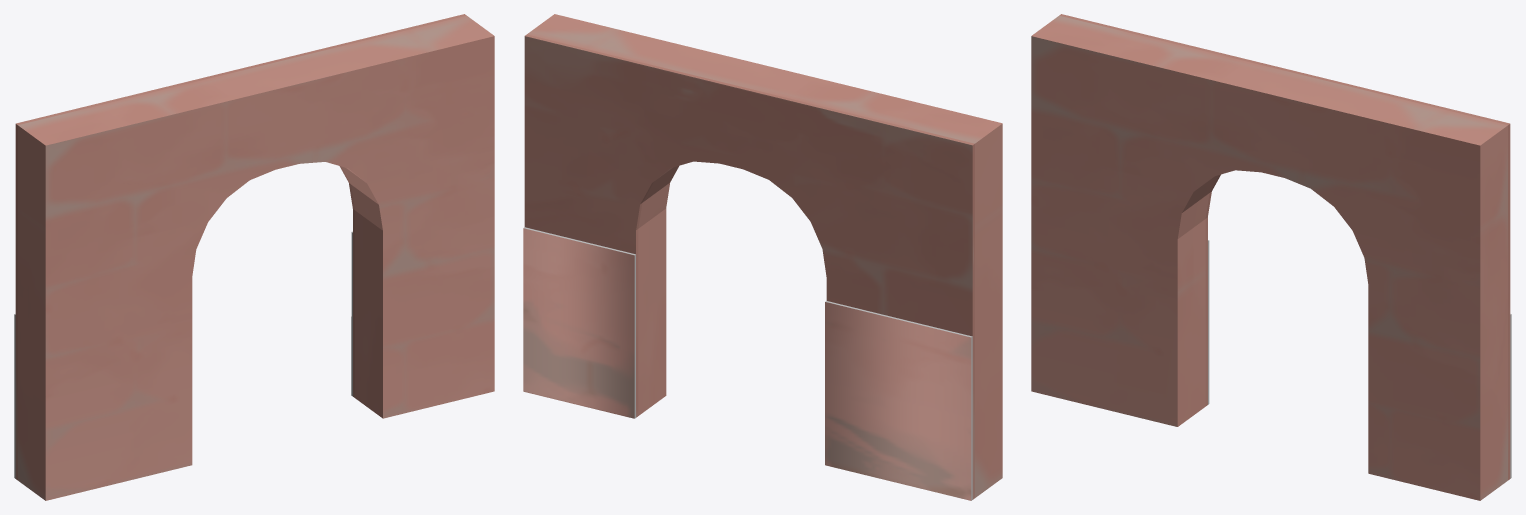
Rendered from wall_test_05.fbx.
3 renders of one model, left to right at view 1: azimuth 30°, elevation 25°; view 2: azimuth 150°, elevation 25°; view 3: azimuth 330°, elevation 25°, orthographic.
Parts seen in each view (by area): view 1: wall_05; view 2: wall_05; view 3: wall_05.
Part boxes in pixels (x1,y1,x2,y2): wall_05: [14, 14, 494, 500]; wall_05: [523, 14, 1002, 500]; wall_05: [1031, 14, 1511, 500].
Size of the model in its own units: 516 by 390 by 62.71.
